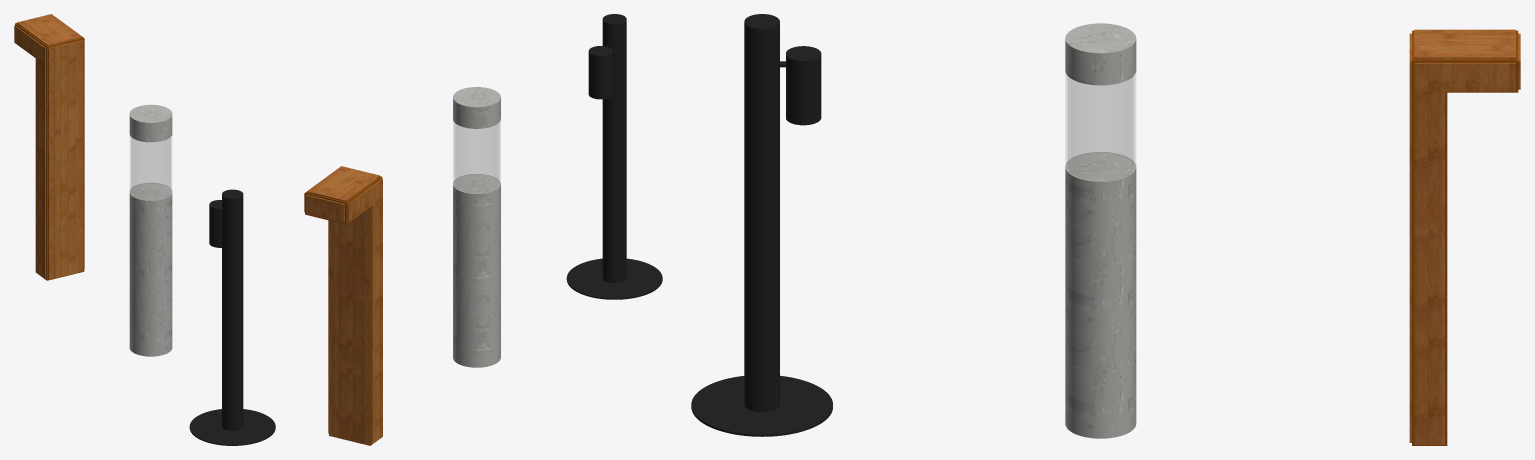
Rendered from uploads_files_3150928_BOLLARD_LIGHTS+1.fbx.
The picture shows the model from 3 angles, left to right: view 1: azimuth 30°, elevation 25°; view 2: azimuth 150°, elevation 25°; view 3: azimuth 270°, elevation 25°; orthographic projection. The views are drawn at different scales.
Parts seen in each view (by area): view 1: Component_20_1, Component_2_1, Difference1, Component_43_1, Component_14_1, Component_4_1, Difference2_1; view 2: Component_20_1, Component_2_1, Difference1, Component_43_1, Component_14_1, Component_4_1, Difference2_1; view 3: Component_20_1, Component_2_1, Difference1, Component_43_1, Component_14_1, Component_4_1, Difference2_1.
Part boxes in pixels (left/top/right/bottom): Component_20_1: left=14, top=14, right=84, bottom=280; Component_2_1: left=129, top=182, right=172, bottom=356; Difference1: left=222, top=189, right=243, bottom=430; Component_43_1: left=130, top=136, right=171, bottom=200; Component_14_1: left=189, top=409, right=275, bottom=445; Component_4_1: left=129, top=104, right=172, bottom=142; Difference2_1: left=209, top=200, right=221, bottom=247; Component_20_1: left=304, top=166, right=382, bottom=445; Component_2_1: left=453, top=174, right=500, bottom=367; Difference1: left=602, top=14, right=626, bottom=283; Component_43_1: left=453, top=121, right=500, bottom=192; Component_14_1: left=566, top=258, right=662, bottom=299; Component_4_1: left=453, top=87, right=500, bottom=128; Difference2_1: left=588, top=46, right=612, bottom=99; Component_20_1: left=1409, top=29, right=1520, bottom=445; Component_2_1: left=1065, top=152, right=1136, bottom=438; Difference1: left=744, top=14, right=779, bottom=412; Component_43_1: left=1066, top=74, right=1135, bottom=180; Component_14_1: left=691, top=375, right=832, bottom=436; Component_4_1: left=1065, top=23, right=1136, bottom=85; Difference2_1: left=786, top=46, right=821, bottom=125.
Bounding box in the file's own units: 14.04 × 36.2 × 70.21.
